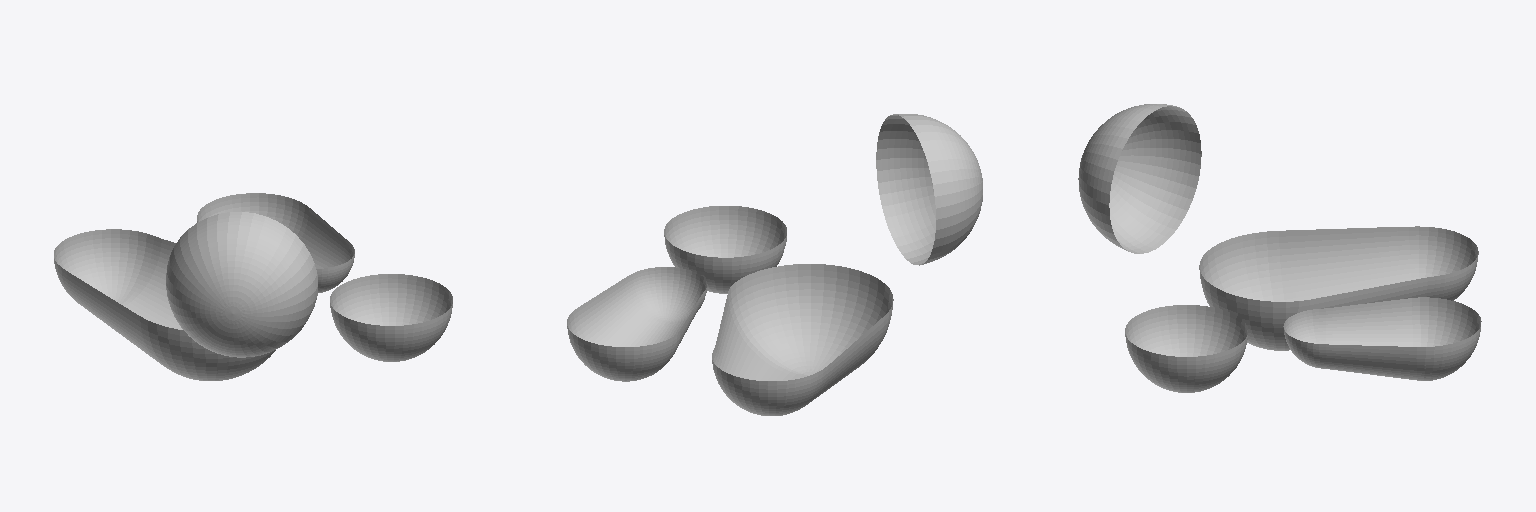
Rendered from lightskate.obj.
3 renders of one model, left to right at view 1: azimuth 30°, elevation 25°; view 2: azimuth 150°, elevation 25°; view 3: azimuth 270°, elevation 25°, orthographic.
Visible parts, largest first — view 1: initialShadingGroup polySurface8 polySurface3, initialShadingGroup polySurface11, initialShadingGroup pSphere2, initialShadingGroup polySurface12; view 2: initialShadingGroup polySurface11, initialShadingGroup polySurface8 polySurface3, initialShadingGroup polySurface12, initialShadingGroup pSphere2; view 3: initialShadingGroup polySurface11, initialShadingGroup polySurface8 polySurface3, initialShadingGroup polySurface12, initialShadingGroup pSphere2.
Boxes of the visible parts, x1,y1,x2,y2 form: initialShadingGroup polySurface8 polySurface3: [166, 212, 317, 357]; initialShadingGroup polySurface11: [54, 229, 275, 380]; initialShadingGroup pSphere2: [330, 274, 452, 361]; initialShadingGroup polySurface12: [197, 193, 354, 292]; initialShadingGroup polySurface11: [712, 264, 893, 415]; initialShadingGroup polySurface8 polySurface3: [876, 114, 982, 265]; initialShadingGroup polySurface12: [567, 267, 706, 381]; initialShadingGroup pSphere2: [664, 206, 786, 293]; initialShadingGroup polySurface11: [1199, 226, 1478, 350]; initialShadingGroup polySurface8 polySurface3: [1078, 104, 1201, 253]; initialShadingGroup polySurface12: [1283, 297, 1481, 380]; initialShadingGroup pSphere2: [1125, 305, 1247, 392].
Size of the model in its own units: 18.41 by 13.39 by 22.55.